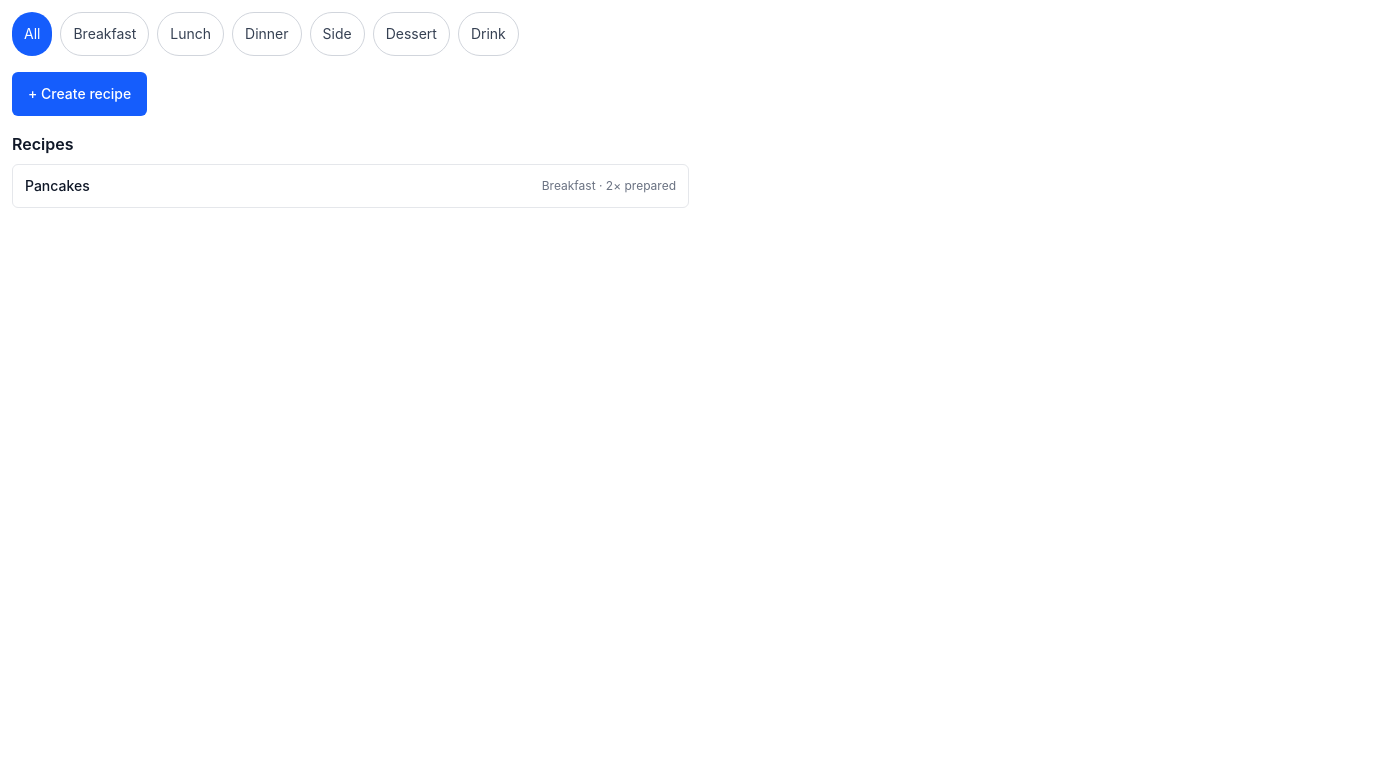
Test: RecipeBox › edit from cook mode re-enters at the ingredient list; back returns to cook
expect the text "Pancakes" is shown: met, box [25,176,90,196]
Click the button "Pancakes Breakfast · 2× prepared" at (57, 186), box [12,164,689,208]
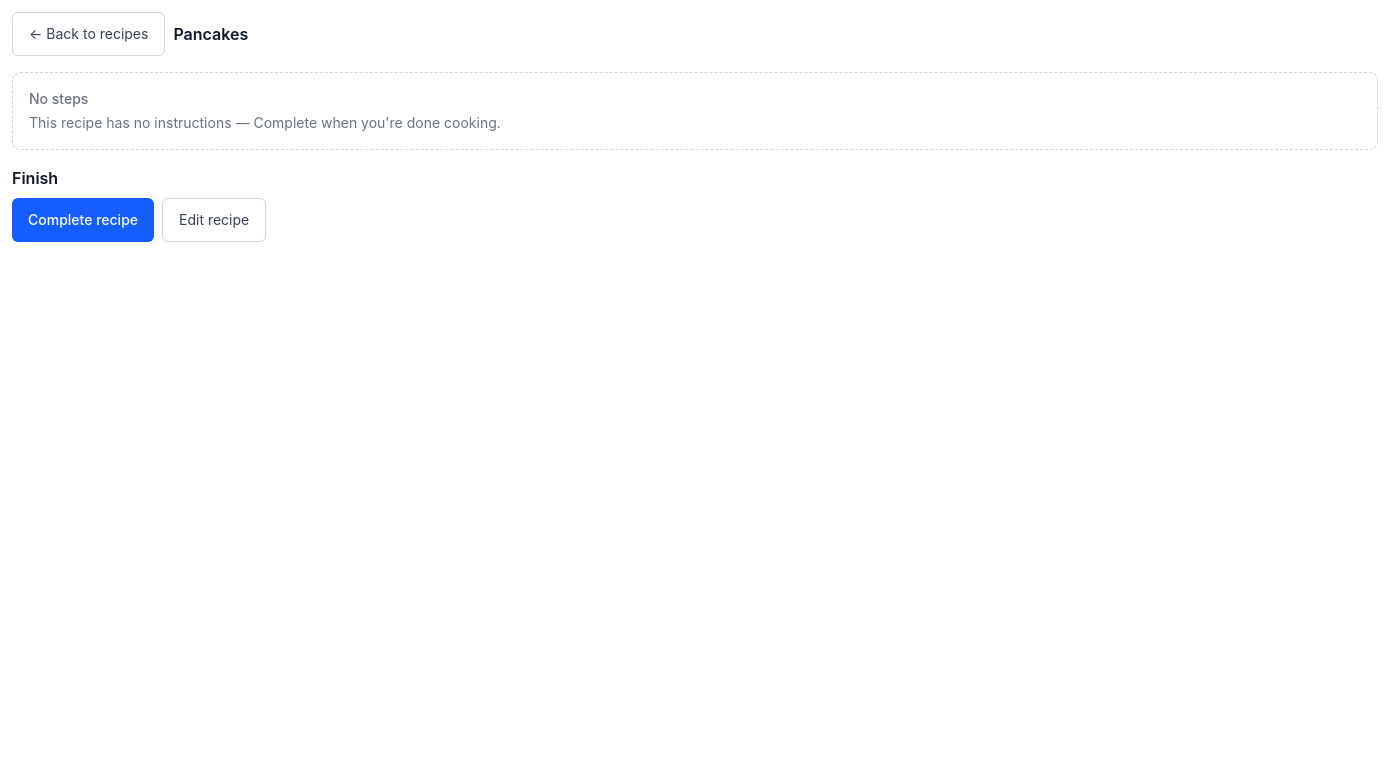
expect the element with test id "recipe-cook" is shown: met, box [12,12,1378,242]
Click the button "Edit recipe" at (214, 220), box [162,198,266,242]
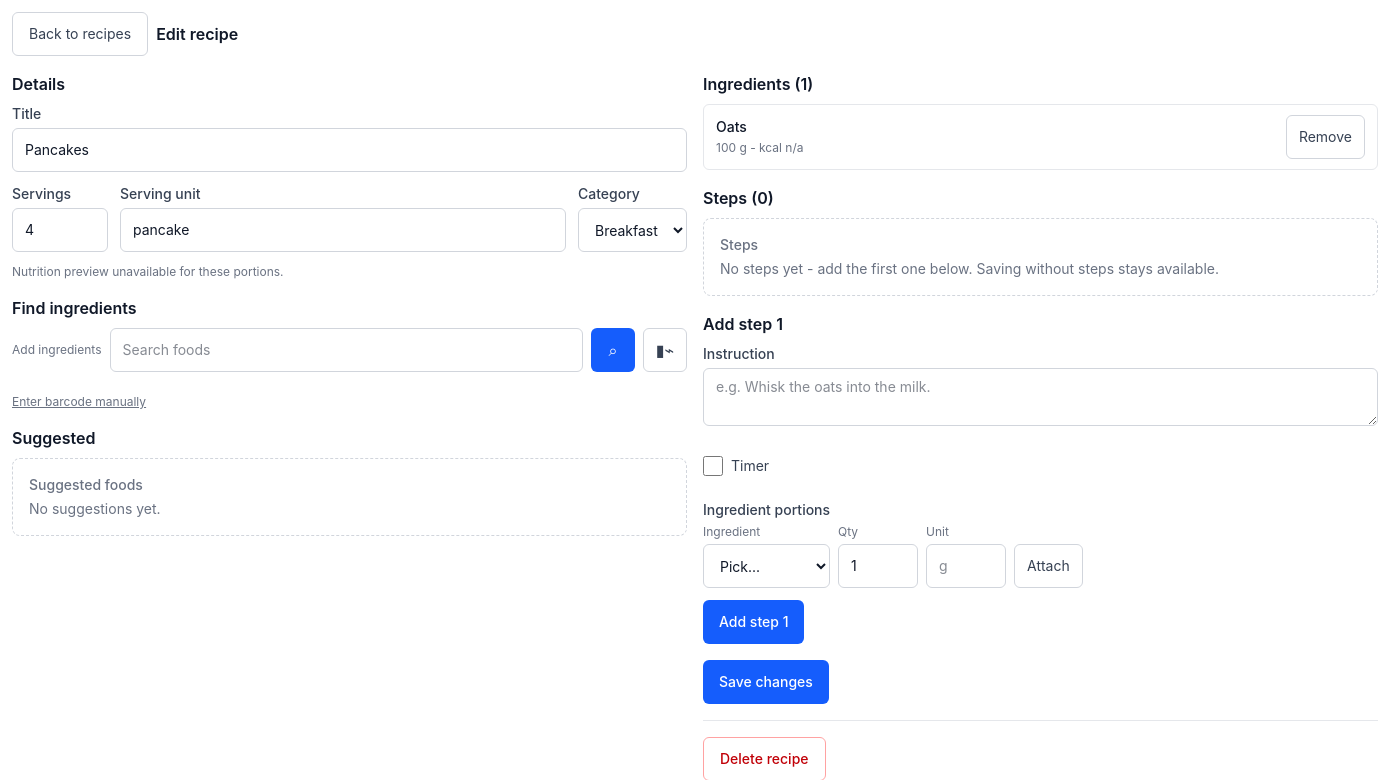
expect the element with test id "recipe-edit" is shown: met
expect the list named "Ingredient lines" shows "Oats": met, box [716,118,747,135]
Click the button "Back to recipes" at (80, 34), box [12,12,148,56]
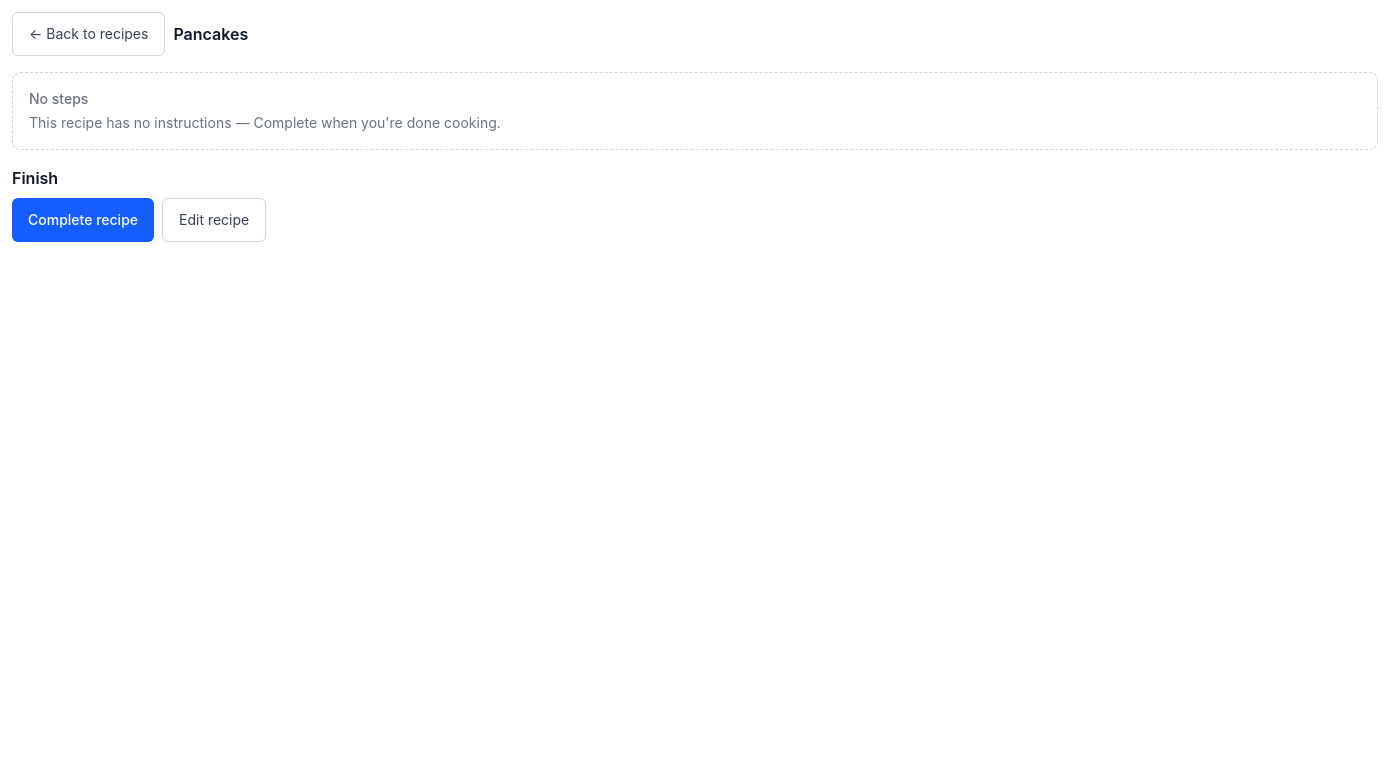
expect the element with test id "recipe-cook" is shown: met, box [12,12,1378,242]
